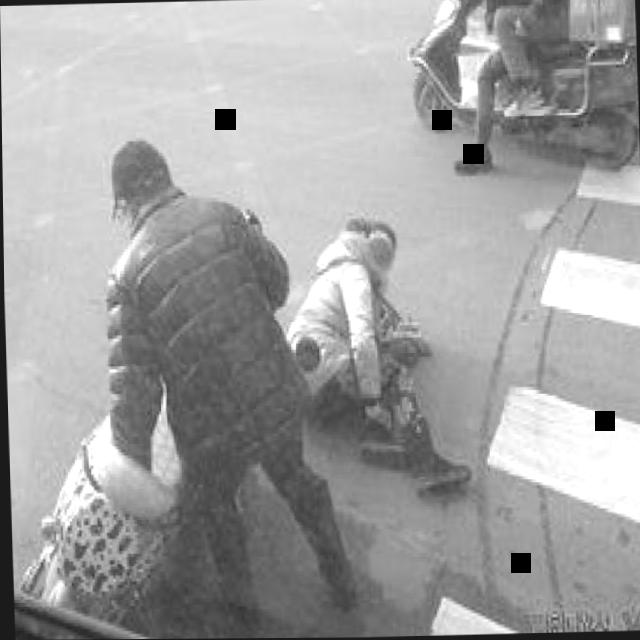Fall-Detected: (285, 198, 482, 498)
